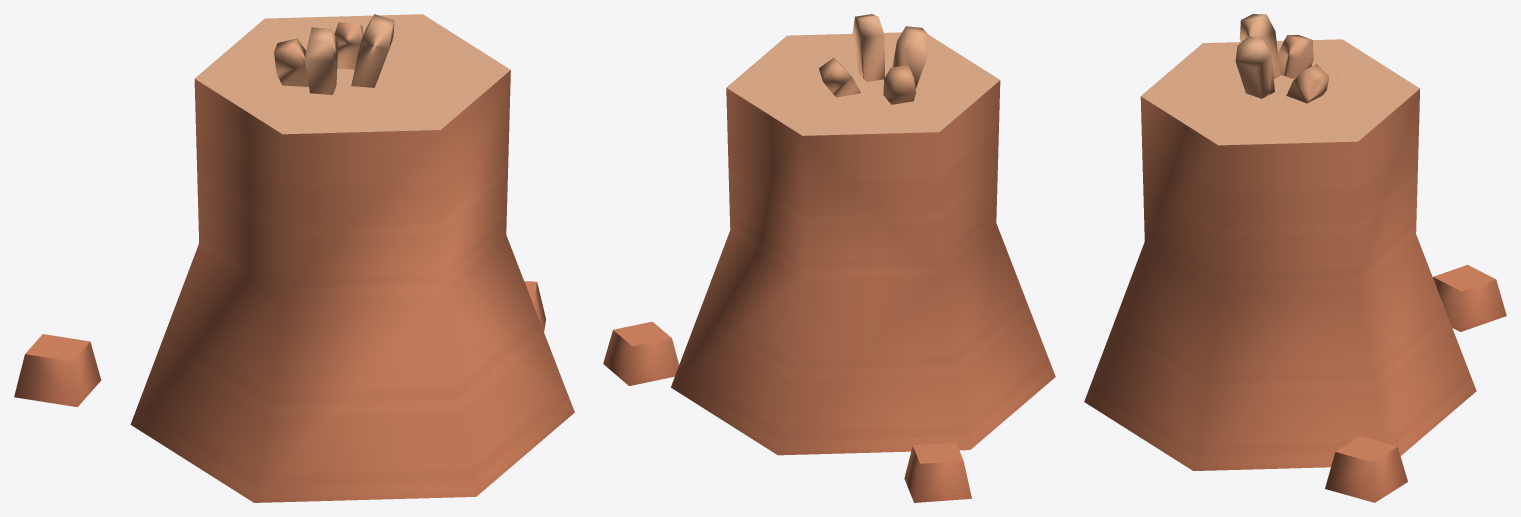
Rendered from rocks-sand-c.008.glb.
3 renders of one model, left to right at view 1: azimuth 30°, elevation 25°; view 2: azimuth 150°, elevation 25°; view 3: azimuth 270°, elevation 25°, orthographic. The views are drawn at different scales.
Visible parts, largest first — view 1: rocks-sand-c.008; view 2: rocks-sand-c.008; view 3: rocks-sand-c.008.
Part boxes in pixels (x1=…): rocks-sand-c.008: x1=14, y1=14, x2=574, y2=502; rocks-sand-c.008: x1=603, y1=14, x2=1055, y2=502; rocks-sand-c.008: x1=1084, y1=14, x2=1506, y2=502.
Size of the model in its own units: 0.7541 by 0.615 by 0.6525.
1 material, 1 textured.
